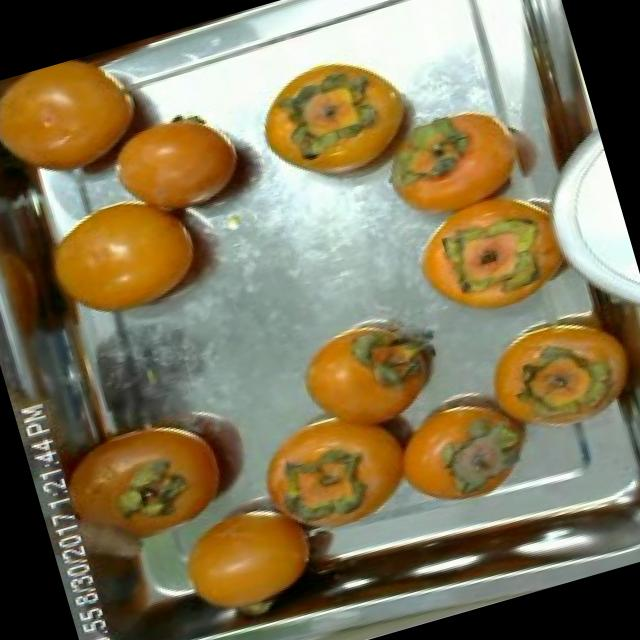Fruit: (24, 365, 268, 562), (15, 173, 236, 350), (396, 167, 594, 342), (366, 354, 556, 523), (274, 294, 466, 458), (0, 36, 184, 207), (238, 37, 422, 206), (232, 384, 418, 542), (87, 86, 268, 245), (156, 484, 342, 634)
